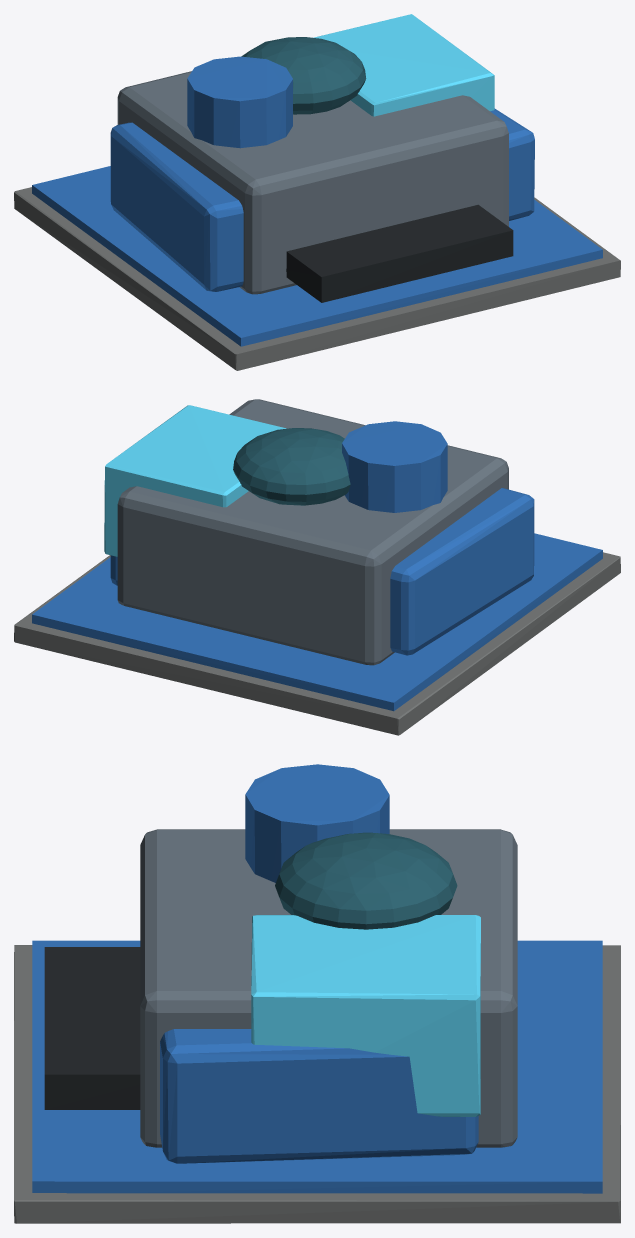
The model's file is SM_Alliance_AL_Refinery_LOD1.fbx.
The picture shows the model from 3 angles, top to bottom: view 1: azimuth 30°, elevation 25°; view 2: azimuth 150°, elevation 25°; view 3: azimuth 270°, elevation 25°; orthographic projection. The views are drawn at different scales.
Visible parts, largest first — view 1: LOD01_SM_Alliance_AL_Refinery; view 2: LOD01_SM_Alliance_AL_Refinery; view 3: LOD01_SM_Alliance_AL_Refinery.
Part boxes in pixels (x1,y1,x2,y2): LOD01_SM_Alliance_AL_Refinery: (14, 14, 620, 370); LOD01_SM_Alliance_AL_Refinery: (14, 399, 620, 735); LOD01_SM_Alliance_AL_Refinery: (14, 764, 620, 1223).
Size of the model in its own units: 799 by 798 by 363.
